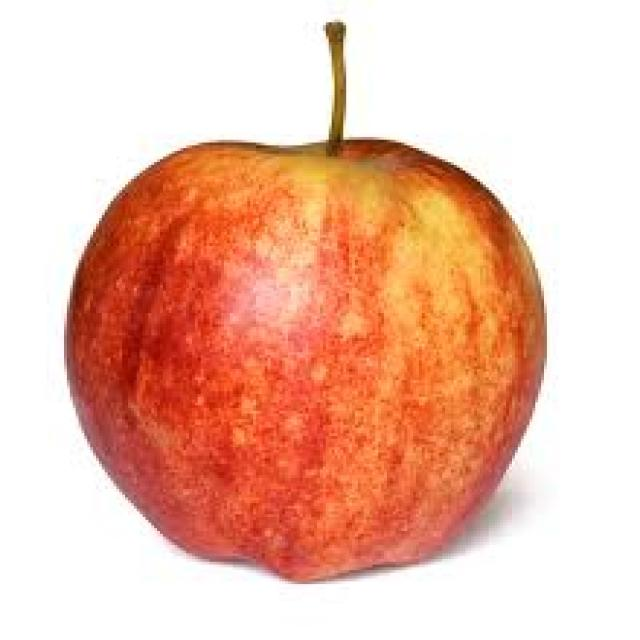apple: (46, 14, 562, 606)
